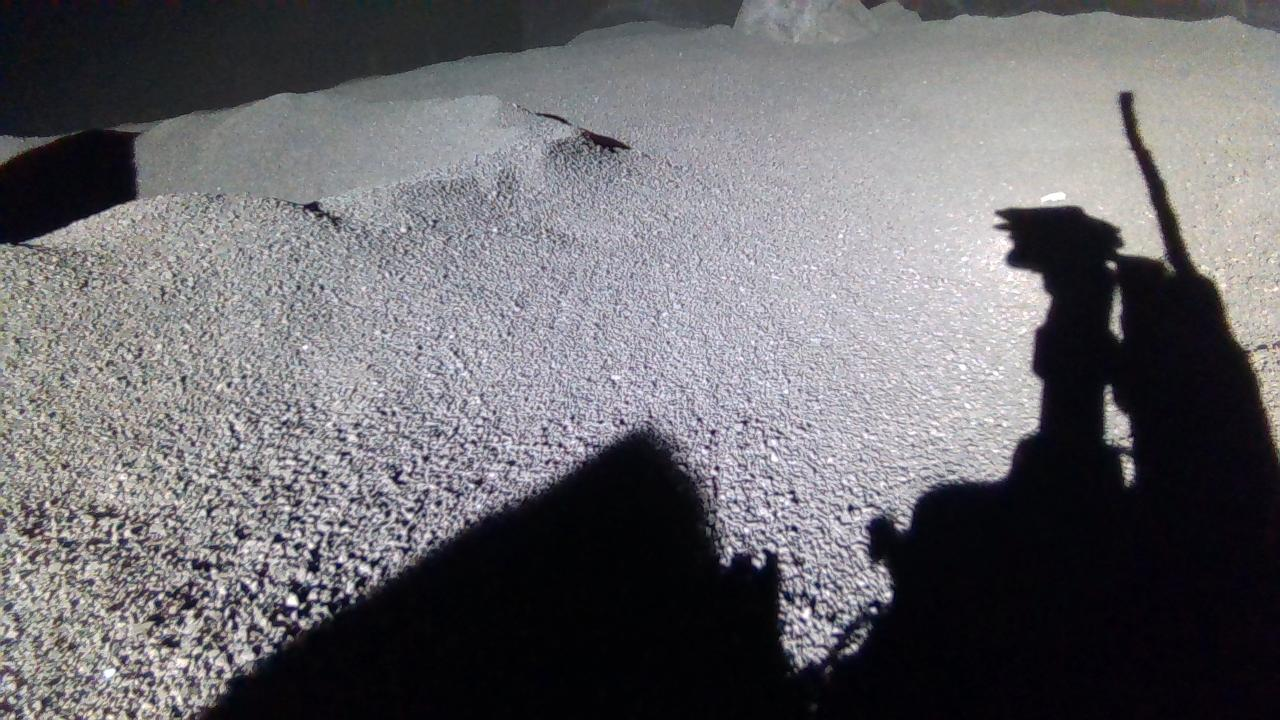rock: (734, 0, 879, 42)
